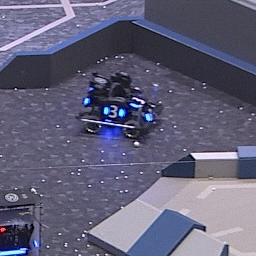Blue: (102, 105, 124, 119)
Robot: (77, 70, 163, 144)
